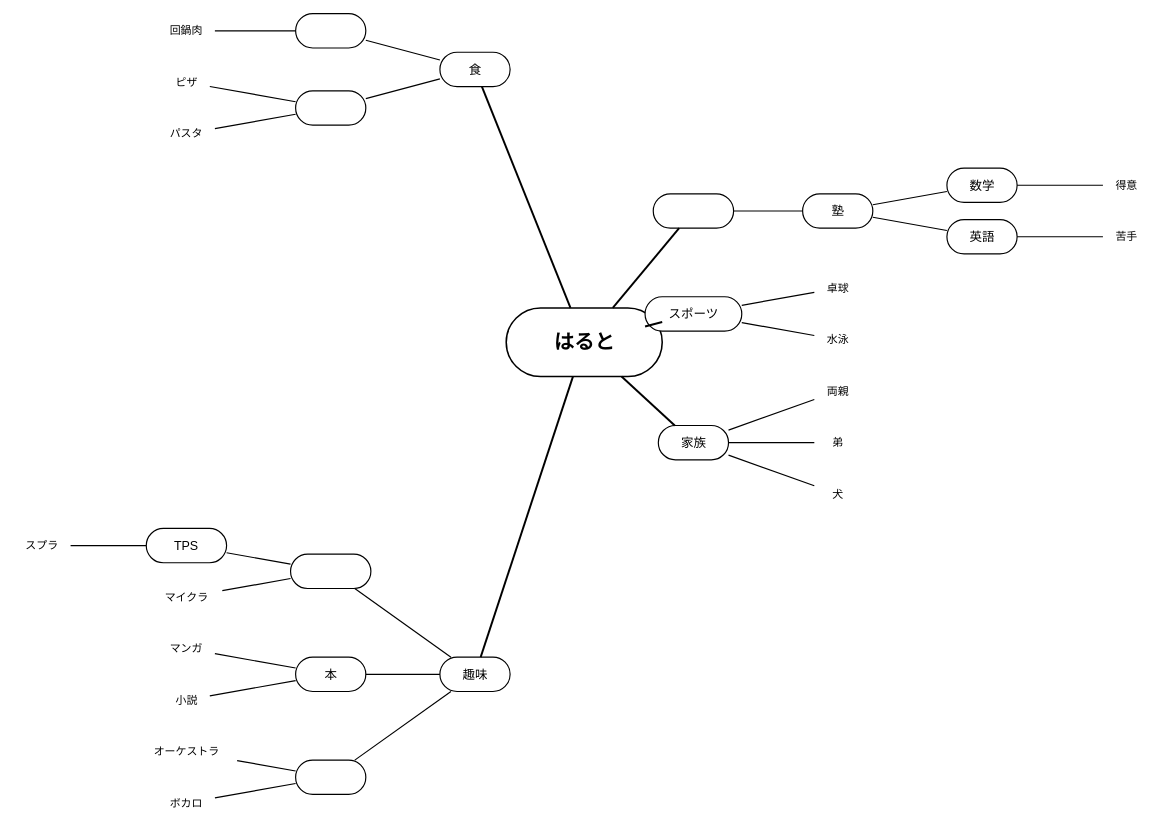
This 1163x828 diagram has some shape labels left out. The shapes that lost their labels are listed below. From the top down, each one's centre as x and y in pixels, then its label:
At point 330,30: "中華".
At point 330,107: "洋食".
At point 693,210: "バイト".
At point 330,571: "ゲーム".
At point 330,777: "音楽".
